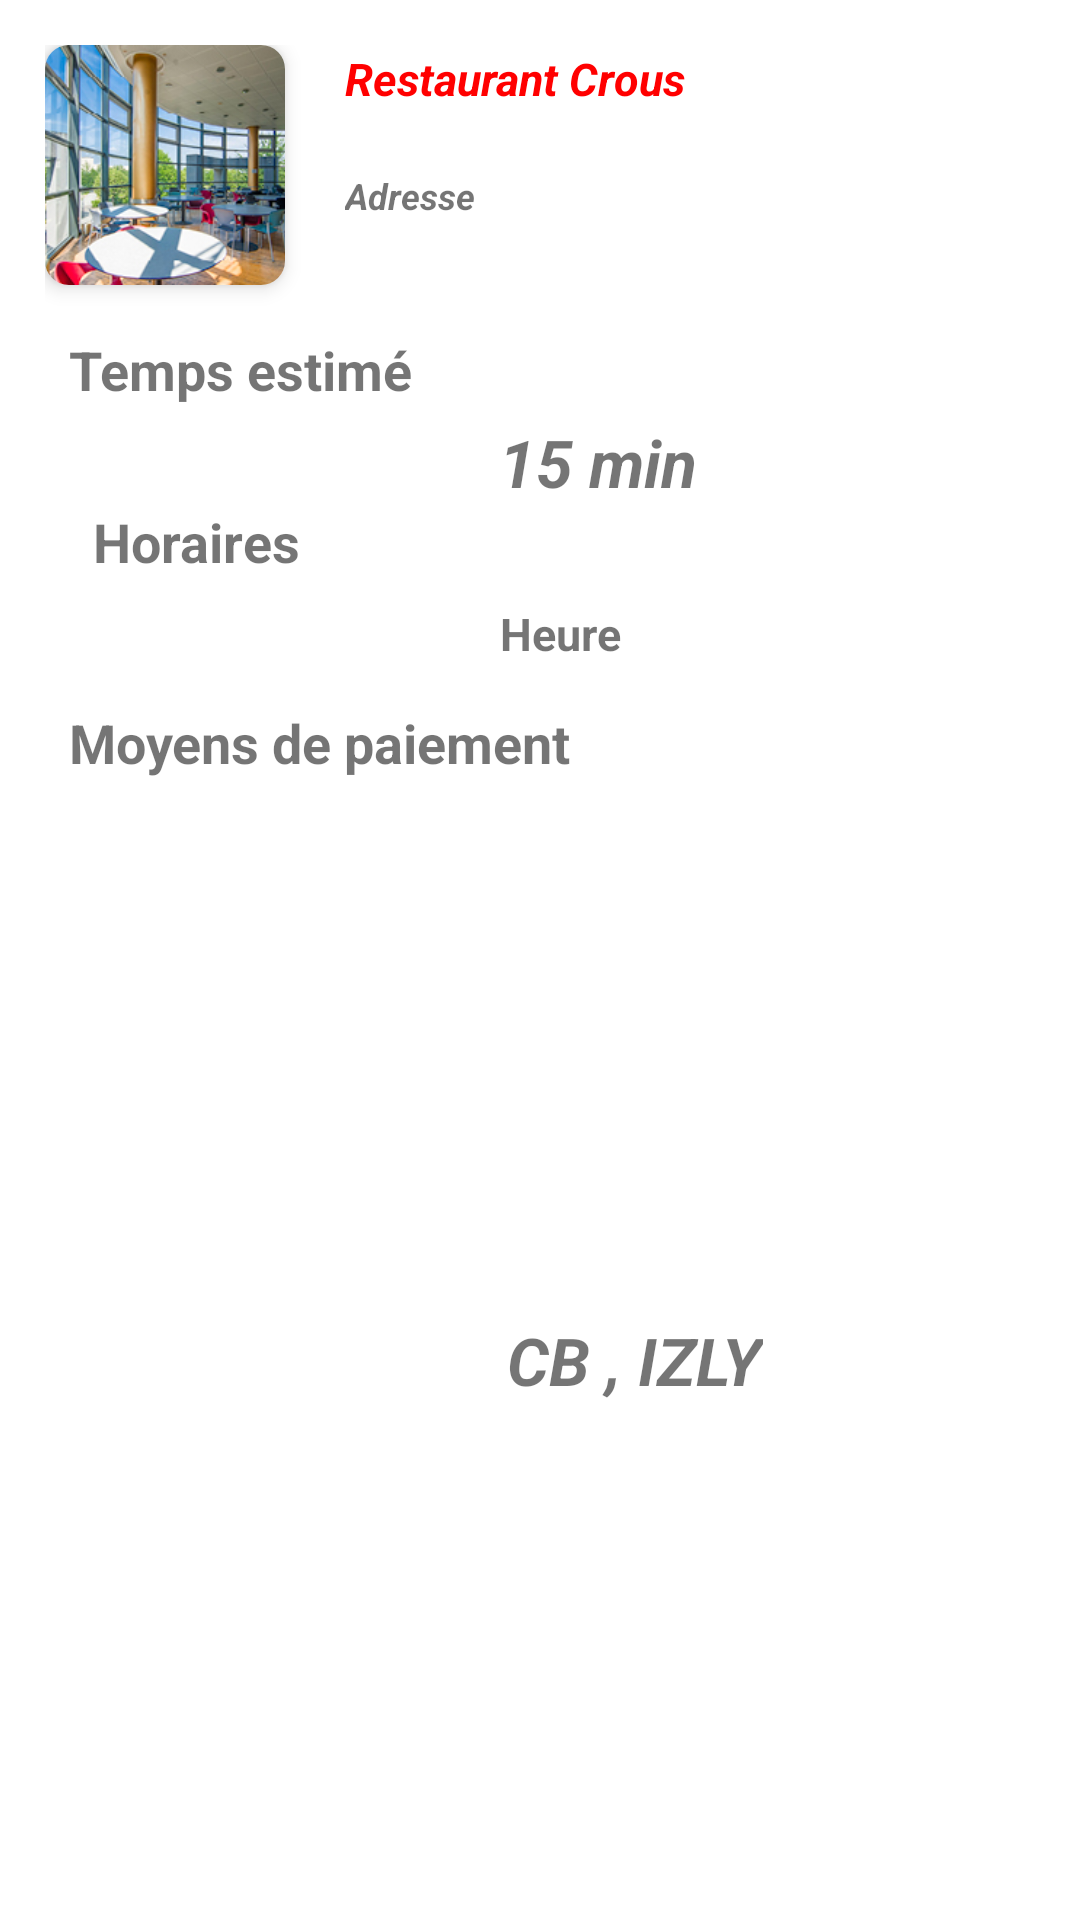

Named icons in this screenshot (1080x1920) and their centers, [x,y]:
restointer: [165,165]
